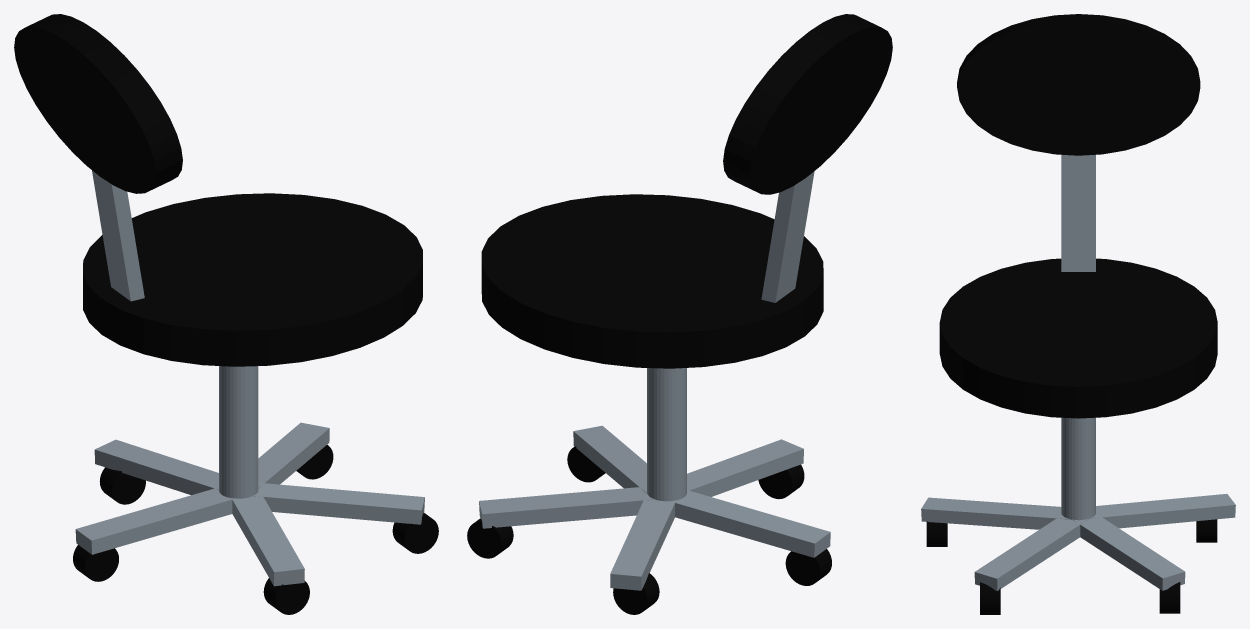
The model's file is deskchair.glb.
The picture shows the model from 3 angles, left to right: view 1: azimuth 30°, elevation 25°; view 2: azimuth 150°, elevation 25°; view 3: azimuth 270°, elevation 25°; orthographic projection. The views are drawn at different scales.
Parts seen in each view (by area): view 1: Cylinder.001, Cylinder, Cylinder.002, Cube.002, Cube.005, Cube, Cube.004, Cube.001, Cube.003, Cylinder.004, Cylinder.006, Cylinder.007 (+2 smaller); view 2: Cylinder.001, Cylinder, Cylinder.002, Cube.003, Cube.002, Cube, Cube.001, Cube.004, Cube.005, Cylinder.005, Cylinder.003, Cylinder.006 (+2 smaller); view 3: Cylinder.001, Cylinder, Cube, Cylinder.002, Cube.001, Cube.004, Cube.005, Cube.003, Cylinder.005, Cylinder.004, Cylinder.007, Cylinder.006.
Part boxes in pixels (x1=…): Cylinder.001: x1=83, y1=193, x2=422, y2=366; Cylinder: x1=14, y1=14, x2=182, y2=193; Cylinder.002: x1=219, y1=366, x2=258, y2=498; Cube.002: x1=75, y1=487, x2=235, y2=554; Cube.005: x1=253, y1=482, x2=424, y2=524; Cube: x1=92, y1=170, x2=144, y2=301; Cube.004: x1=94, y1=439, x2=218, y2=495; Cube.001: x1=231, y1=488, x2=304, y2=586; Cube.003: x1=258, y1=422, x2=329, y2=488; Cylinder.004: x1=392, y1=513, x2=438, y2=553; Cylinder.006: x1=99, y1=467, x2=145, y2=504; Cylinder.007: x1=263, y1=578, x2=309, y2=614; Cylinder.001: x1=481, y1=194, x2=823, y2=368; Cylinder: x1=723, y1=14, x2=892, y2=194; Cylinder.002: x1=647, y1=368, x2=686, y2=501; Cube.003: x1=479, y1=486, x2=655, y2=528; Cube.002: x1=669, y1=490, x2=830, y2=557; Cube: x1=761, y1=171, x2=814, y2=302; Cube.001: x1=687, y1=439, x2=803, y2=496; Cube.004: x1=610, y1=494, x2=675, y2=590; Cube.005: x1=573, y1=425, x2=647, y2=493; Cylinder.005: x1=467, y1=518, x2=513, y2=558; Cylinder.003: x1=785, y1=549, x2=831, y2=585; Cylinder.006: x1=613, y1=573, x2=659, y2=614; Cylinder.001: x1=939, y1=258, x2=1217, y2=418; Cylinder: x1=957, y1=14, x2=1200, y2=155; Cube: x1=1061, y1=154, x2=1095, y2=271; Cylinder.002: x1=1061, y1=417, x2=1095, y2=520; Cube.001: x1=921, y1=497, x2=1074, y2=529; Cube.004: x1=1090, y1=494, x2=1235, y2=528; Cube.005: x1=974, y1=515, x2=1090, y2=590; Cube.003: x1=1073, y1=513, x2=1185, y2=590; Cylinder.005: x1=1159, y1=582, x2=1180, y2=613; Cylinder.004: x1=980, y1=582, x2=1000, y2=614; Cylinder.007: x1=926, y1=521, x2=947, y2=546; Cylinder.006: x1=1196, y1=519, x2=1217, y2=542.
Size of the model in its own units: 0.4862 by 0.76 by 0.4529.
